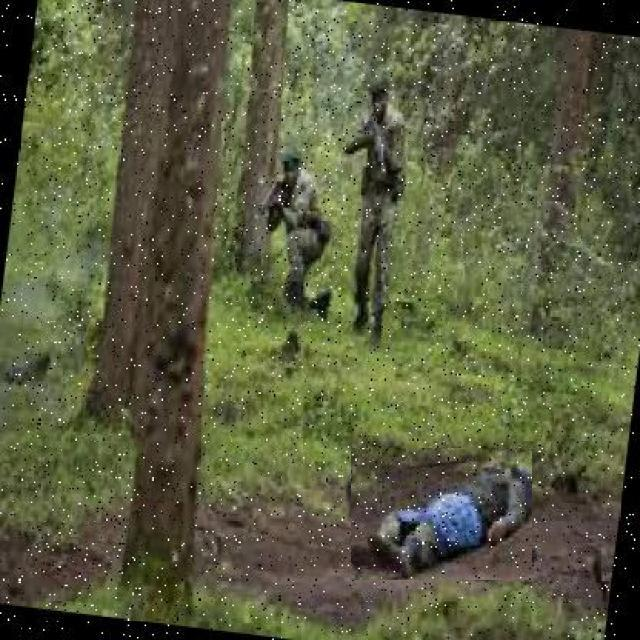poacher: (351, 448, 532, 580), (336, 86, 422, 339), (246, 152, 334, 311)
